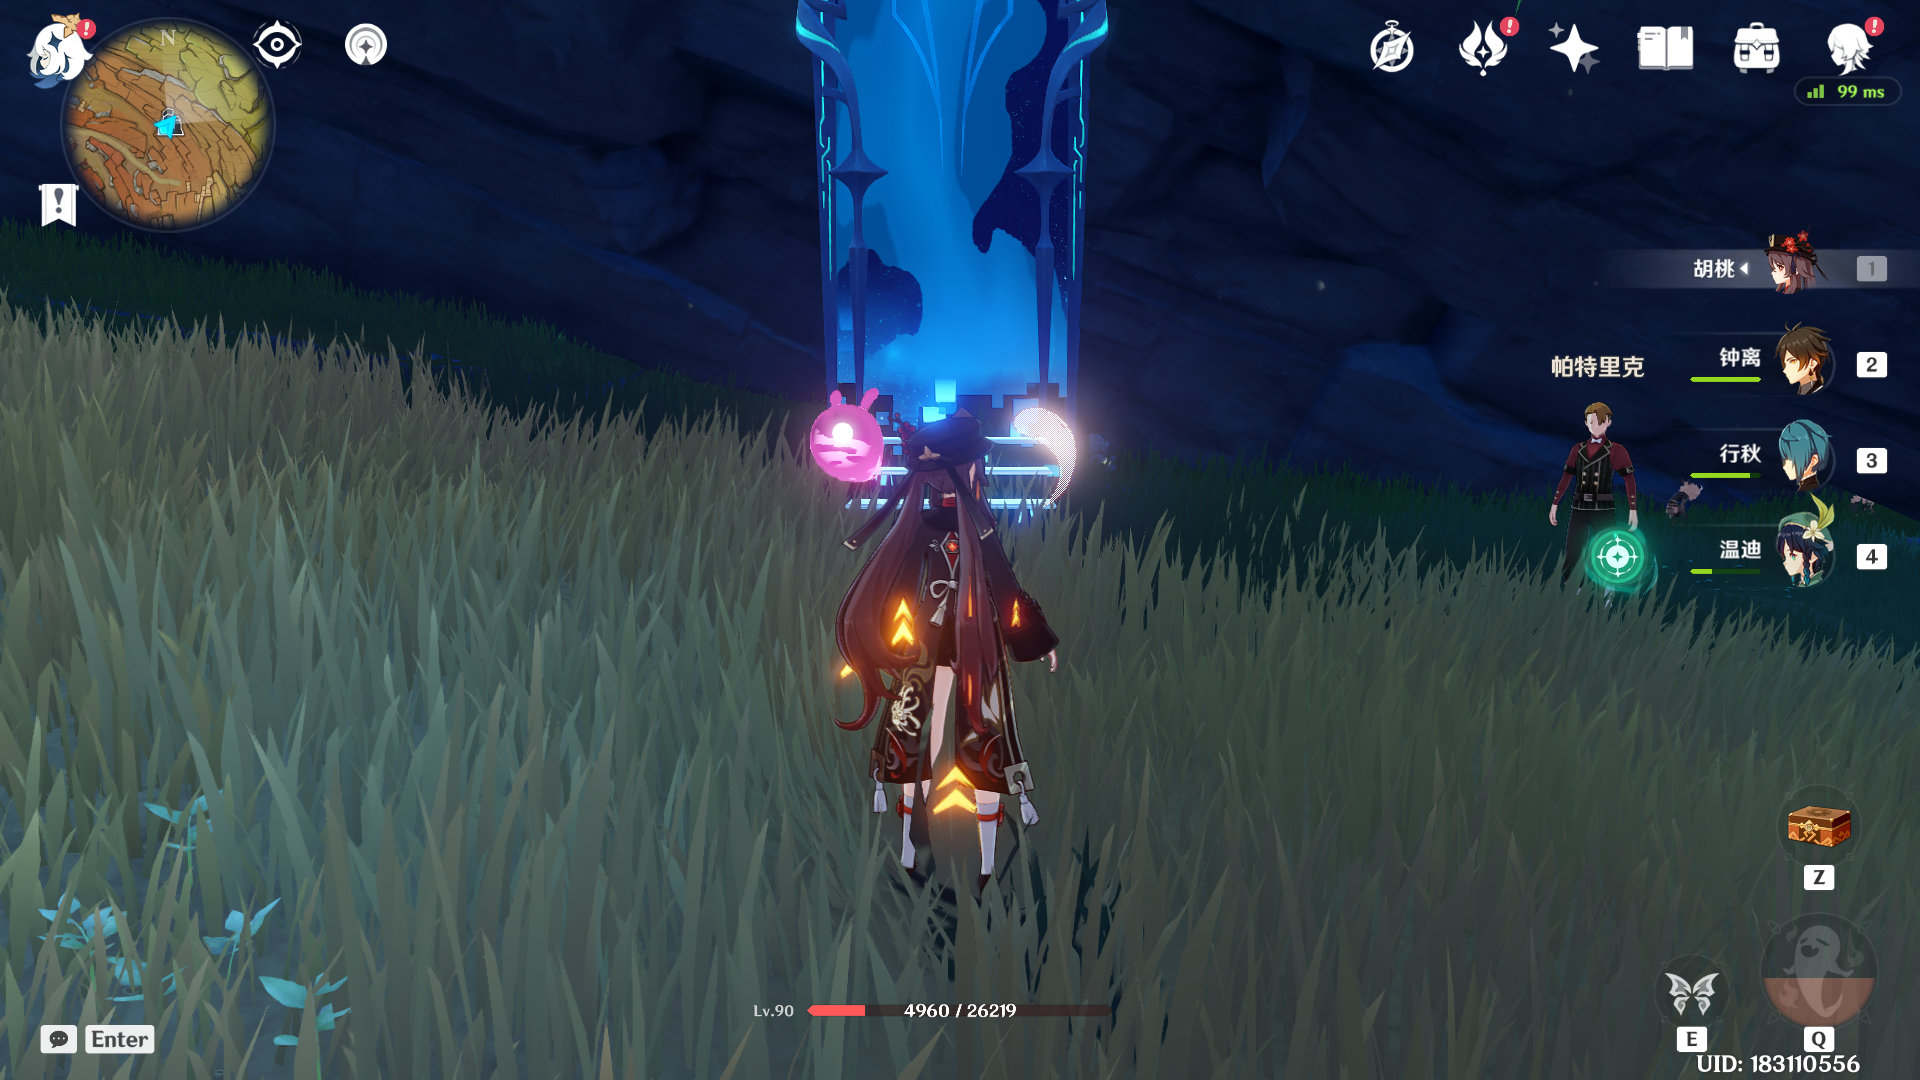character: (808, 406, 1098, 938)
